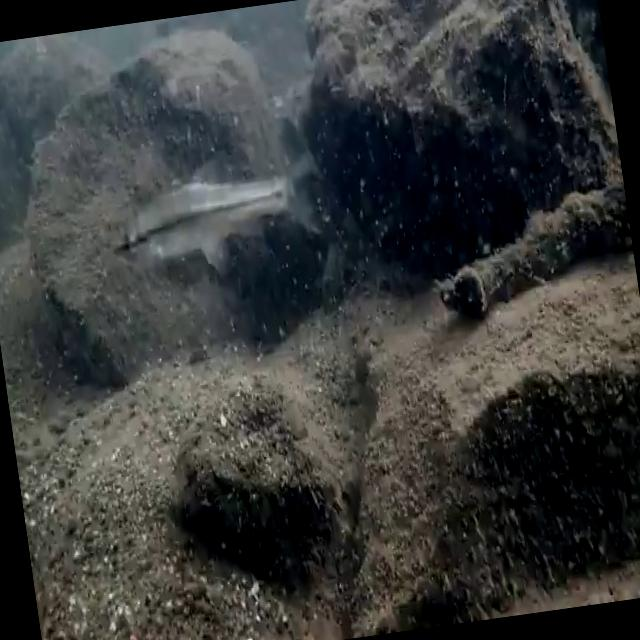Cakil Baligi: (102, 154, 344, 298)
